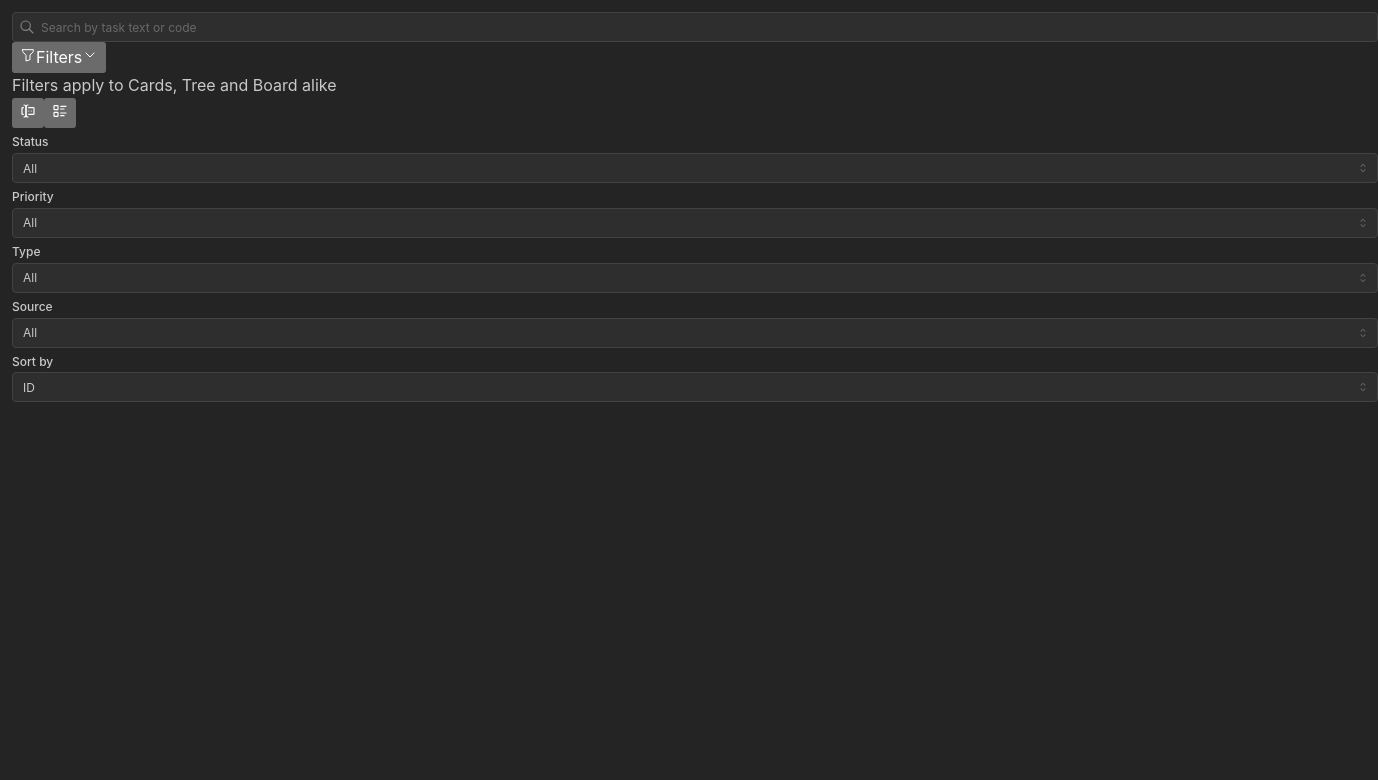
TaskFilters — sk-50 Relevance sort option (search-only) › Relevance option is absent from the combobox when NOT searching
The image size is (1378, 780).
Click the field labelled "Sort by". click: (695, 387)
box: x1=12 y1=372 x2=1377 y2=402
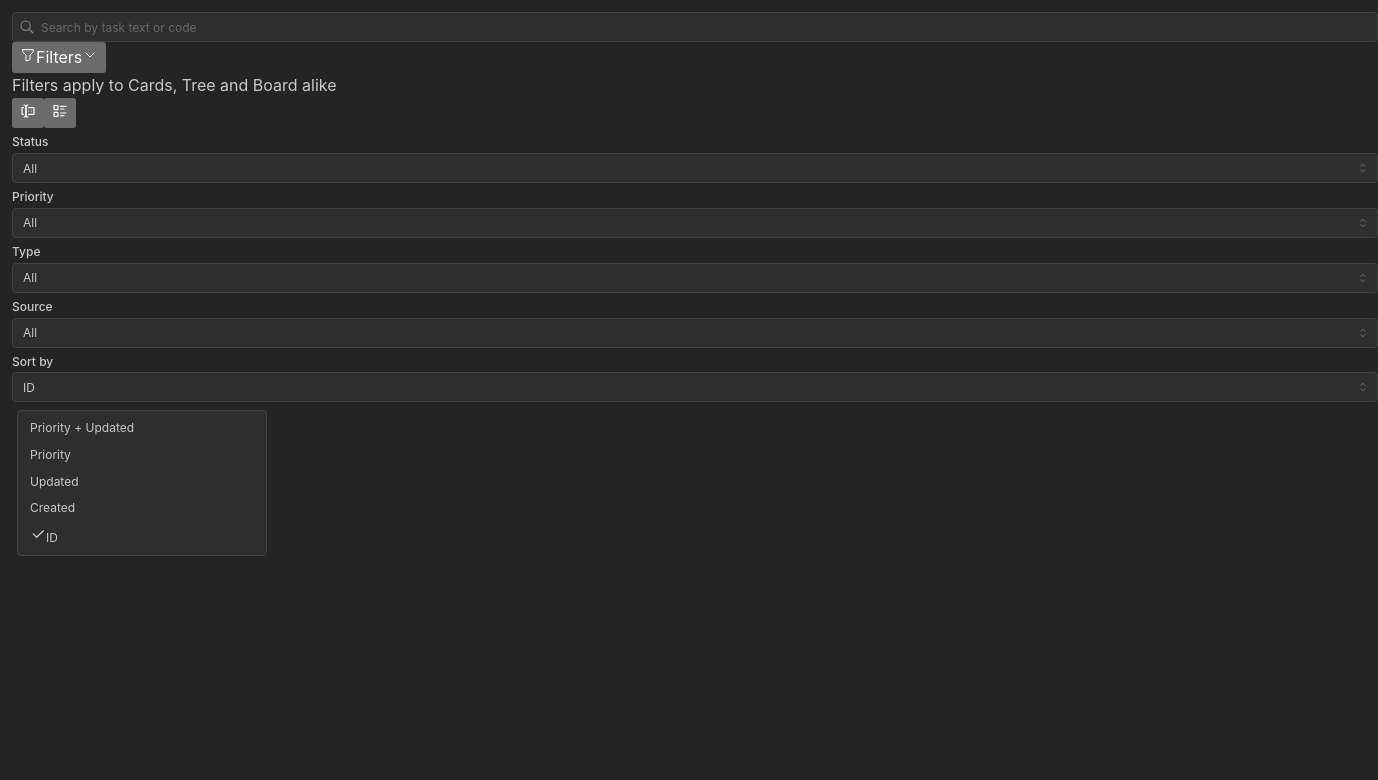
expect the option "ID" is shown: met, box x1=30 y1=526 x2=58 y2=545
